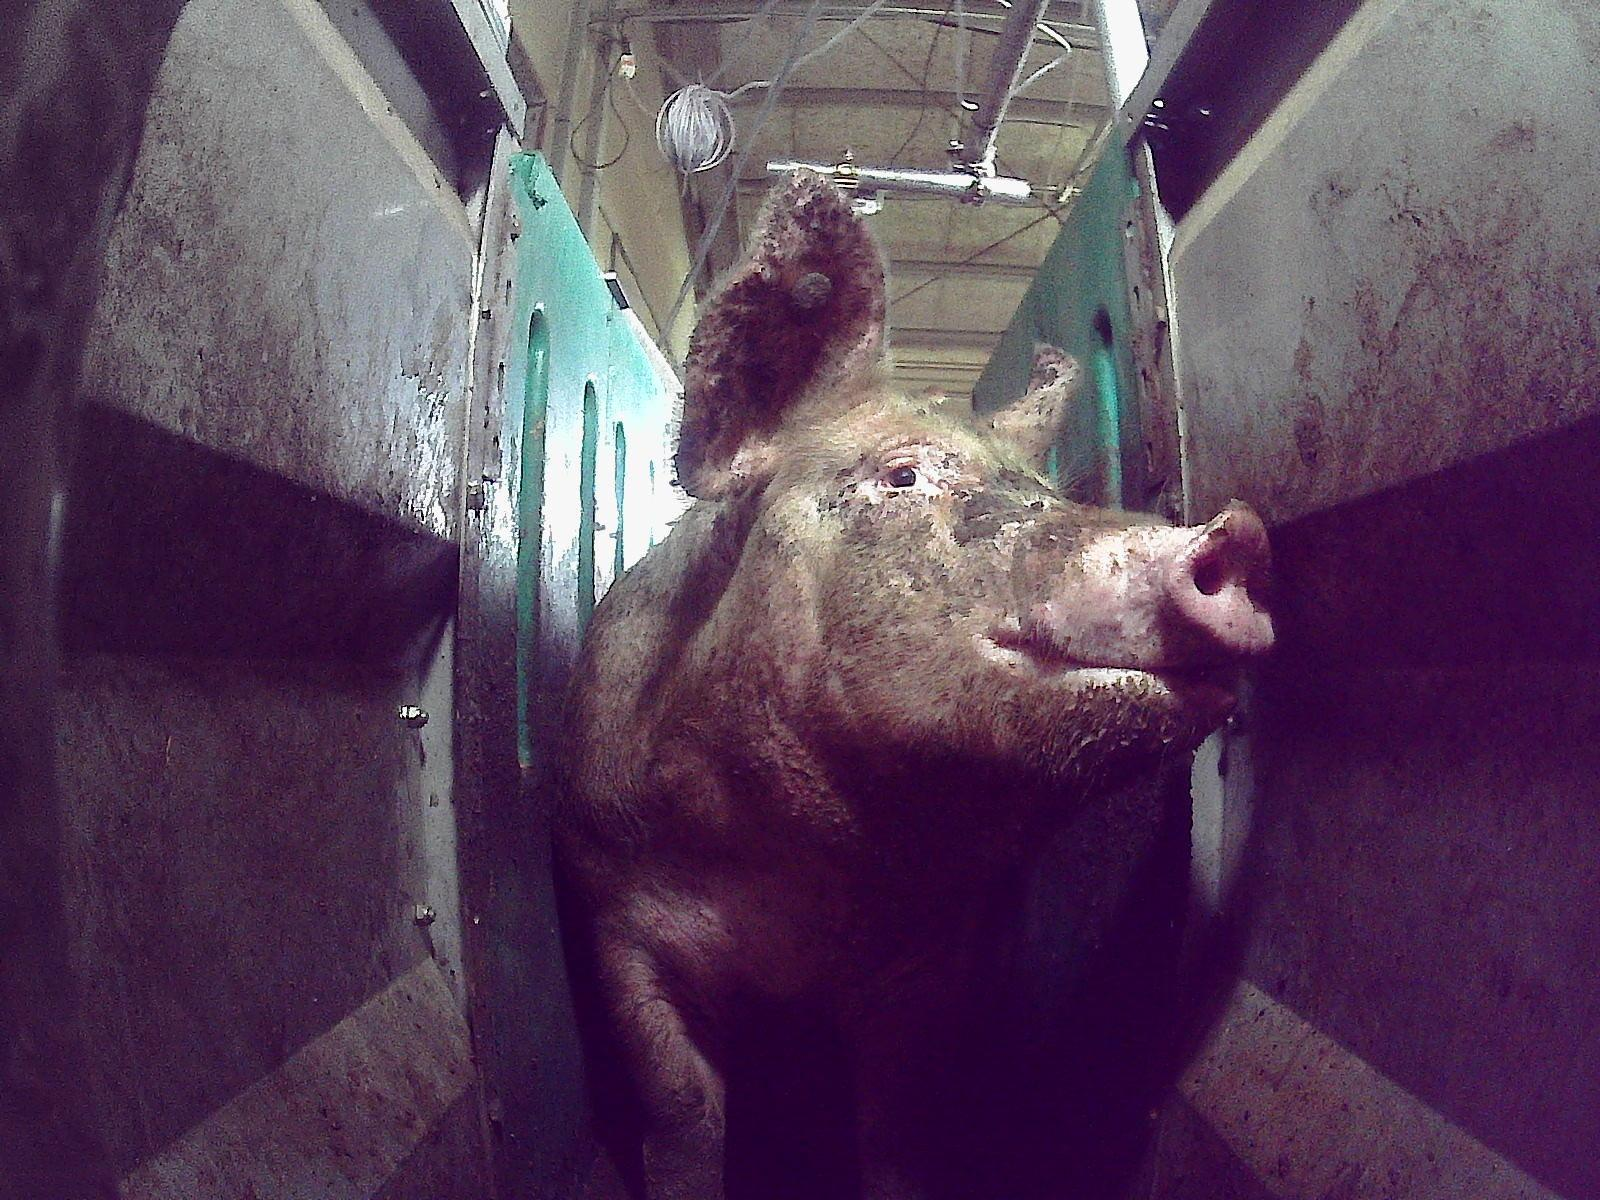Face: (712, 386, 1280, 909)
